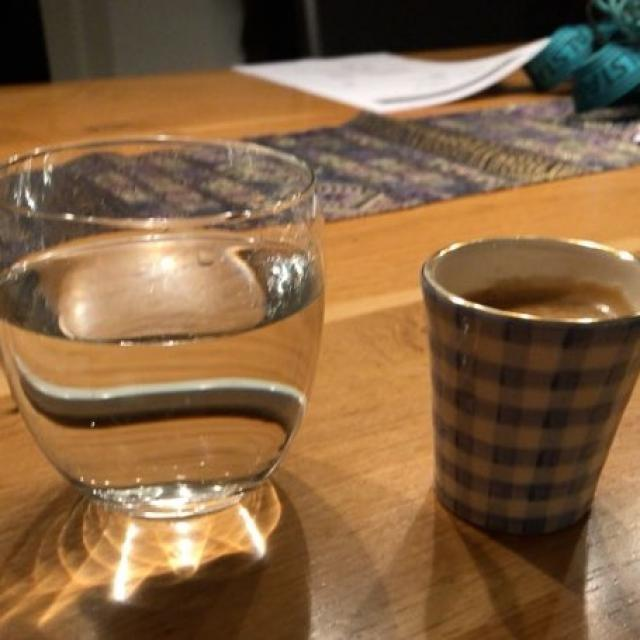espresso: (469, 281, 629, 317)
water: (17, 234, 316, 538)
